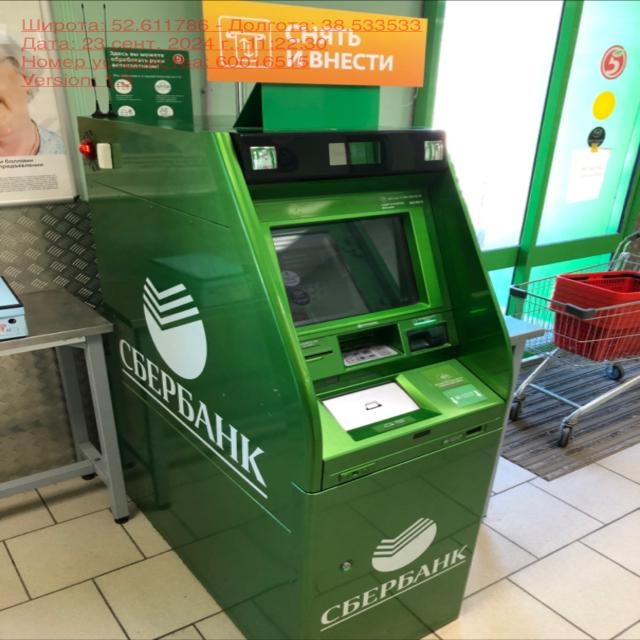bank: (68, 5, 526, 639)
